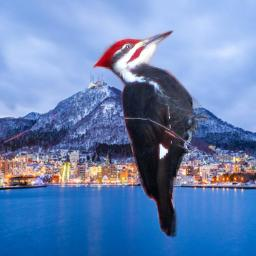Woodpecker: (93, 30, 209, 238)
